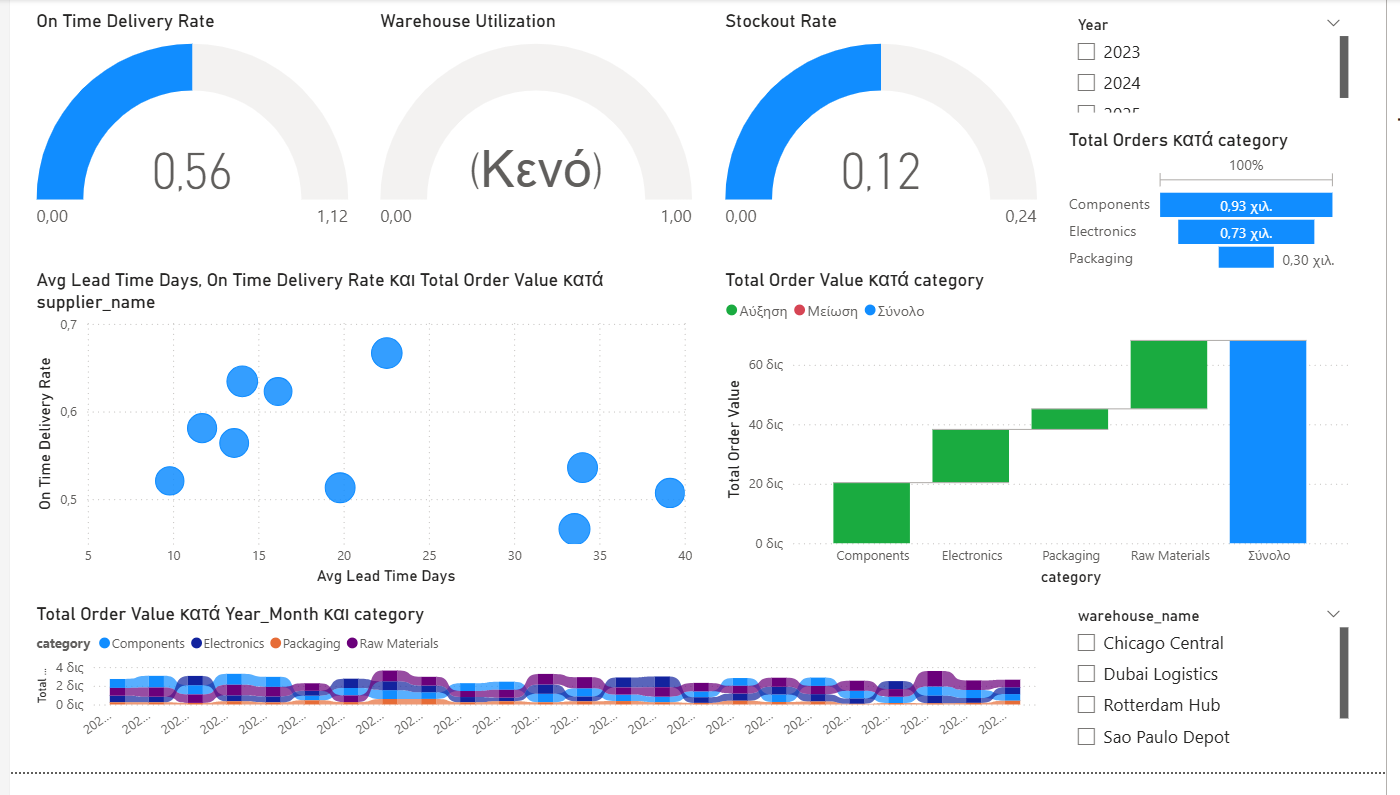

This screenshot's page, from the dashboard's own definition file:
{"tool":"powerbi","page":{"name":"Advanced Analytics","canvas":[1280,720],"ordinal":5},"visuals":[{"type":"gauge","fields":{"Y":["_Measures.On Time Delivery Rate"]},"box":[20,10,300,220],"z":1000},{"type":"gauge","fields":{"Y":["_Measures.Warehouse Utilization"]},"box":[340,10,300,220],"z":1000},{"type":"gauge","fields":{"Y":["_Measures.Stockout Rate"]},"box":[660,10,300,220],"z":1000},{"type":"slicer","fields":{"Values":["Calendar.Year"]},"box":[980,10,270,100],"z":1000},{"type":"funnel","fields":{"Category":["DimProduct.category"],"Y":["_Measures.Total Orders"]},"box":[980,120,270,200],"z":1000},{"type":"scatterChart","fields":{"Category":["DimSupplier.supplier_name"],"Size":["_Measures.Total Order Value"],"X":["_Measures.Avg Lead Time Days"],"Y":["_Measures.On Time Delivery Rate"]},"box":[20,250,620,300],"z":1000},{"type":"waterfallChart","fields":{"Category":["DimProduct.category"],"Y":["_Measures.Total Order Value"]},"box":[660,250,590,300],"z":1000},{"type":"ribbonChart","fields":{"Category":["Calendar.Year_Month"],"Series":["DimProduct.category"],"Y":["_Measures.Total Order Value"]},"box":[20,560,940,140],"z":1000},{"type":"slicer","fields":{"Values":["DimWarehouse.warehouse_name"]},"box":[980,560,270,140],"z":1000}]}

Visuals, with their boxes in screenshot pixels (x1, y1, x2, y2), scaled from the page's 1280x720 canvas onto the 1400x795 screenshot:
gauge - _Measures.On Time Delivery Rate: box=[22, 11, 350, 254]
gauge - _Measures.Warehouse Utilization: box=[372, 11, 700, 254]
gauge - _Measures.Stockout Rate: box=[722, 11, 1050, 254]
slicer - Calendar.Year: box=[1072, 11, 1367, 121]
funnel - DimProduct.category x _Measures.Total Orders: box=[1072, 132, 1367, 353]
scatterChart - DimSupplier.supplier_name x _Measures.Total Order Value: box=[22, 276, 700, 607]
waterfallChart - DimProduct.category x _Measures.Total Order Value: box=[722, 276, 1367, 607]
ribbonChart - Calendar.Year_Month x DimProduct.category: box=[22, 618, 1050, 773]
slicer - DimWarehouse.warehouse_name: box=[1072, 618, 1367, 773]
